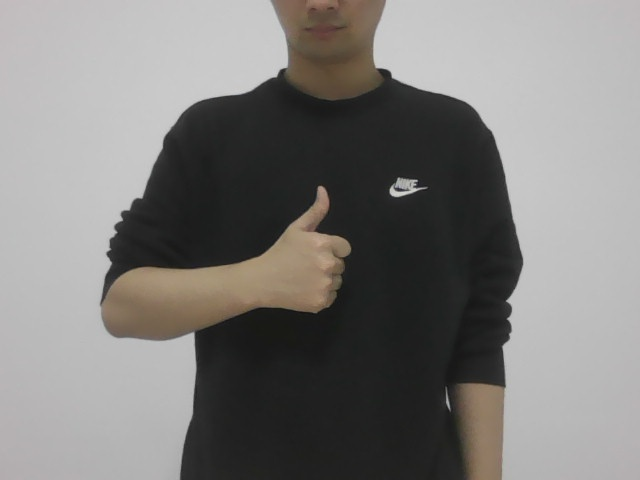good: (265, 180, 353, 324)
